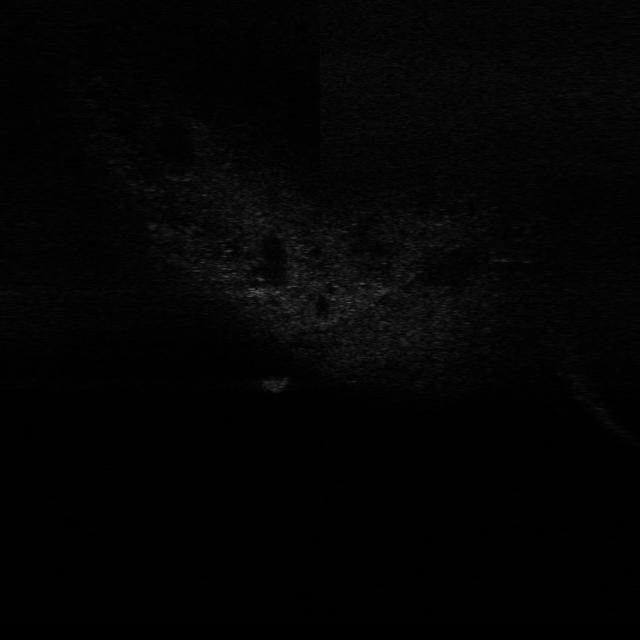cube: (258, 371, 293, 396)
